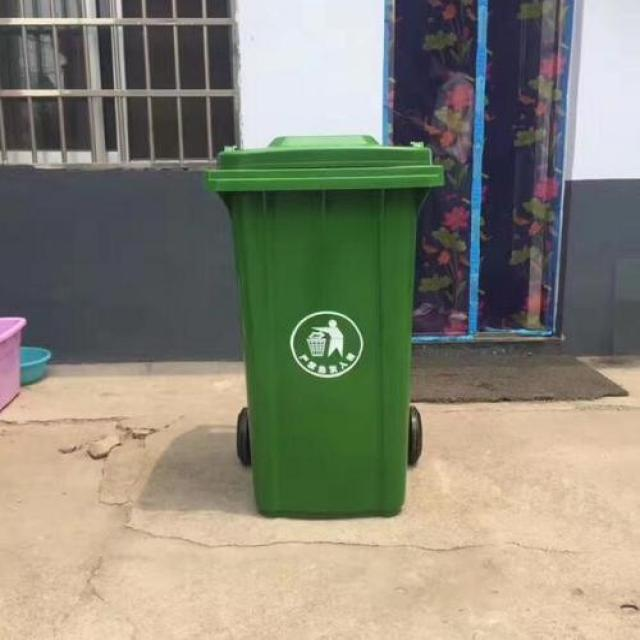garbage_bin: (204, 132, 442, 518)
